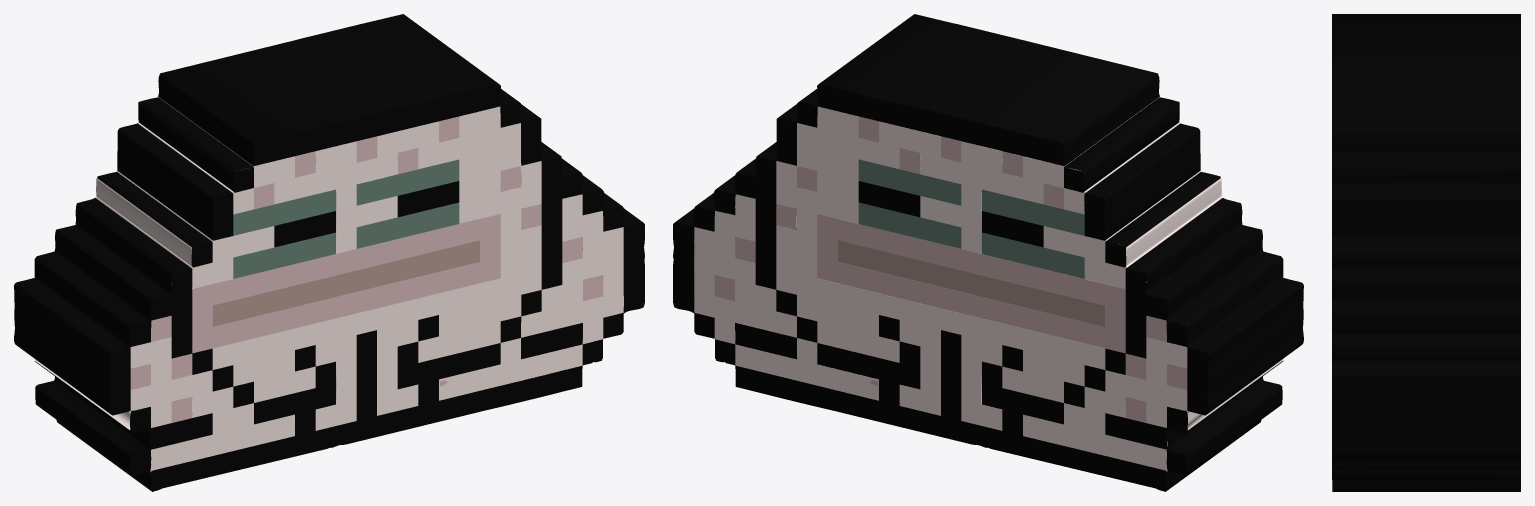
The model's file is Toadz_499.glb.
3 views of the same model, side by side, from view 1: azimuth 30°, elevation 25°; view 2: azimuth 150°, elevation 25°; view 3: azimuth 270°, elevation 25° (orthographic).
Parts seen in each view (by area): view 1: Curve; view 2: Curve; view 3: Curve.
Part boxes in pixels (<box>): Curve: <box>14,14,644,491</box>; Curve: <box>673,14,1303,491</box>; Curve: <box>1332,14,1520,491</box>.
Bounding box in the file's own units: 3.24 × 1.87 × 1.
